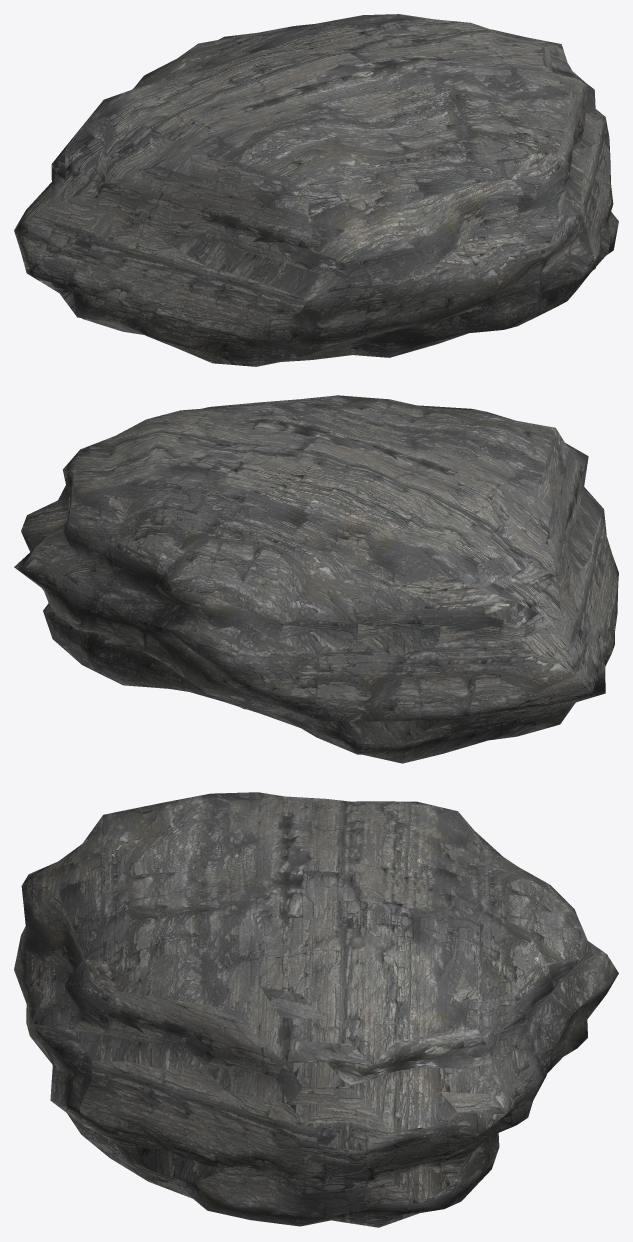
File: rock_slab.glb
3 renders of one model, top to bottom at view 1: azimuth 30°, elevation 25°; view 2: azimuth 150°, elevation 25°; view 3: azimuth 270°, elevation 25°, orthographic. The views are drawn at different scales.
Parts seen in each view (by area): view 1: plant; view 2: plant; view 3: plant.
Boxes of the visible parts, x1=… form: plant: x1=14, y1=14, x2=618, y2=366; plant: x1=14, y1=395, x2=618, y2=763; plant: x1=14, y1=792, x2=618, y2=1227.
Size of the model in its own units: 1.34 by 0.5183 by 1.12.
1 material, 1 textured.
